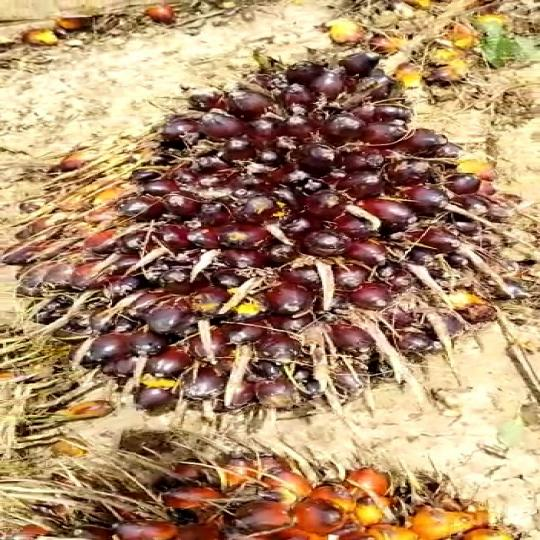mentah: (26, 37, 536, 408)
